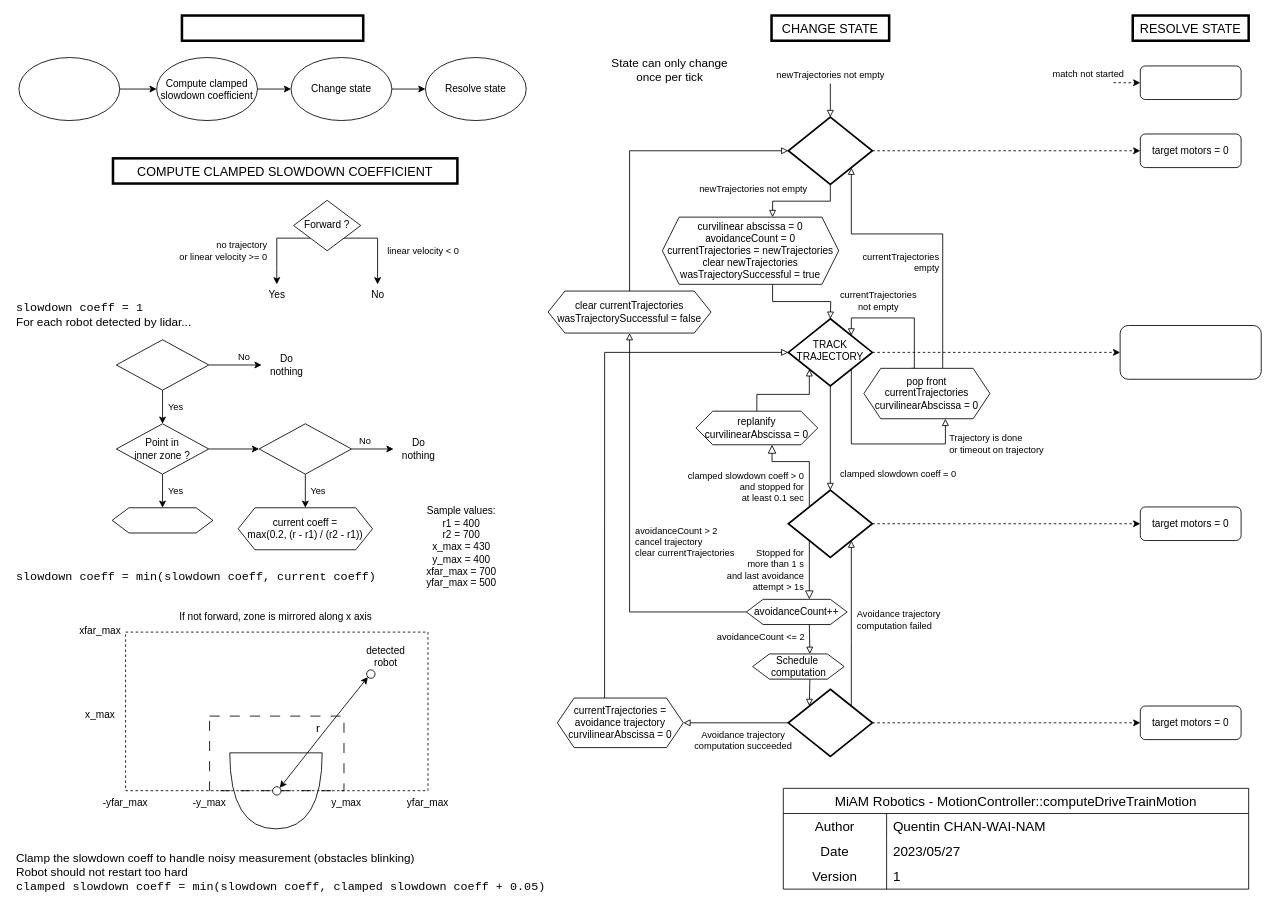
Some shapes in this 1276 by 912 pixel diagram are drawn without their labels. Here are the shapes that lost their labels. From the top down, the centre of each, then its label:
At pixel 272 28: "TICK EVERY 10 MS".
At pixel 69 89: "Fetch odometry and obstacles".
At pixel 1190 82: "target motors = 0 reset PID".
At pixel 830 150: "WAIT FOR TRAJECTORY".
At pixel 162 364: "Point in table ?".
At pixel 1190 352: "increment curvilinear abscissa compute target motors update is trajectory done".
At pixel 305 448: "Point in far zone ?".
At pixel 162 520: "current coeff = 0".
At pixel 830 523: "STOP".
At pixel 830 722: "PLAN AVOIDANCE".
At pixel 275 790: "x=0, y=0".
